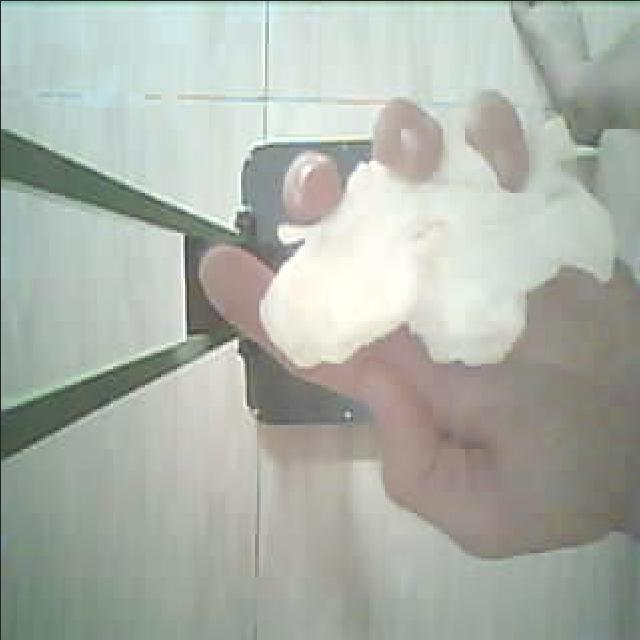Paper: (256, 90, 622, 402)
